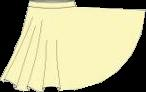Hemline: (0, 9, 145, 91)
Waistline: (27, 5, 76, 8), (29, 0, 74, 1)
